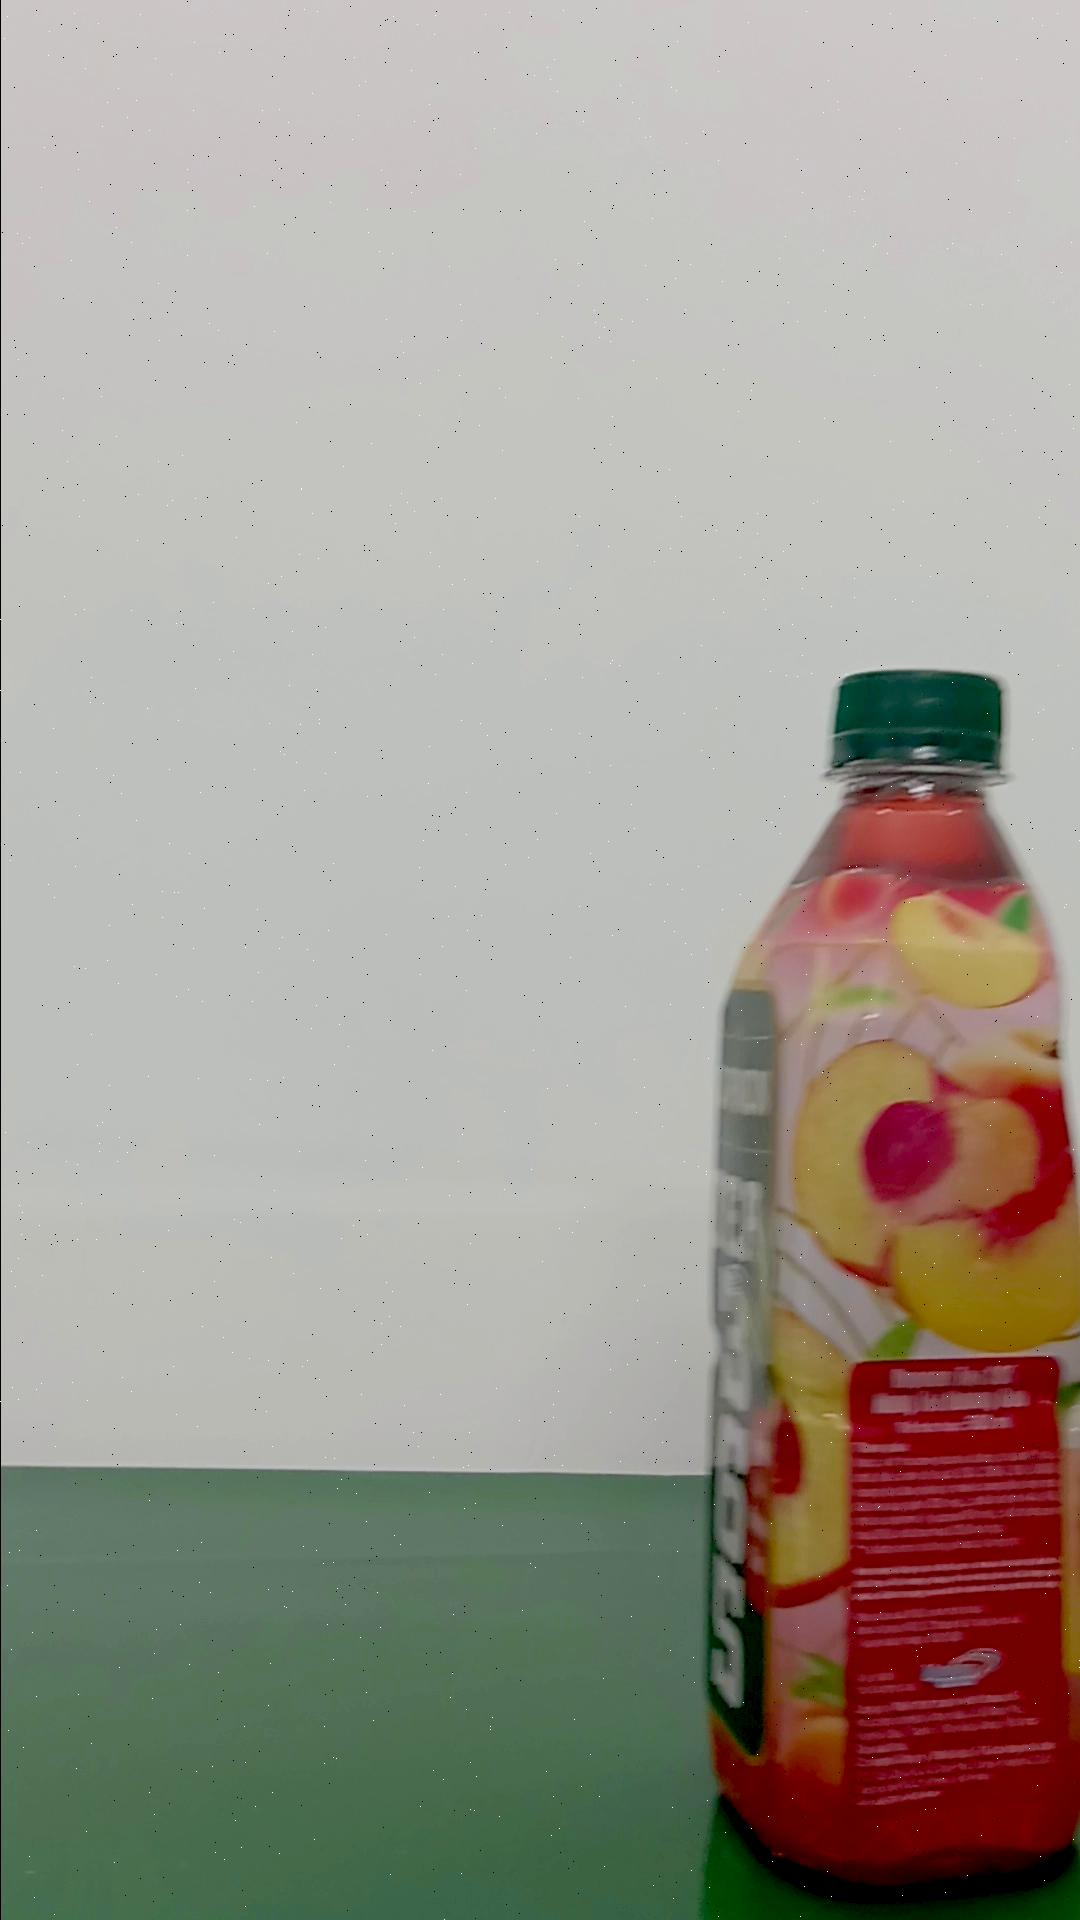loi meo sp: (699, 665, 1076, 1890)
